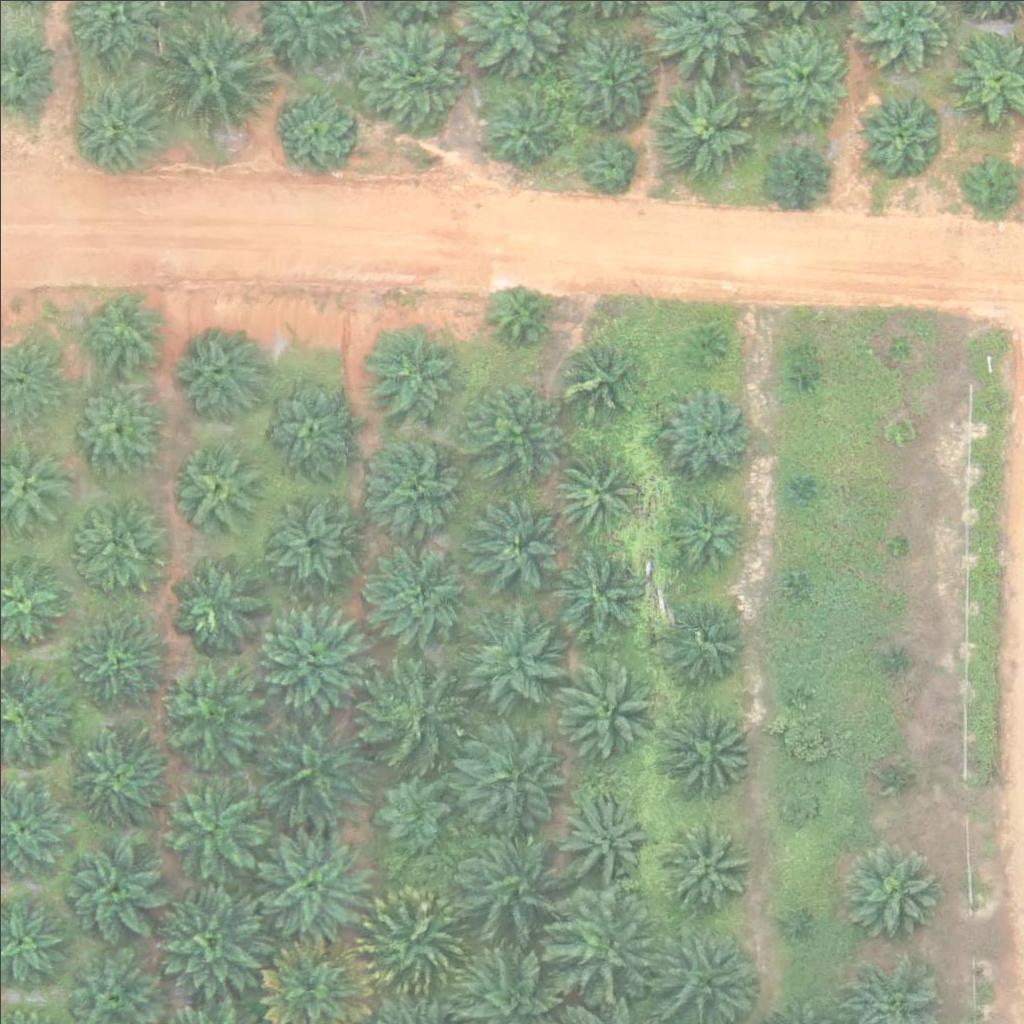Kelapa_Sawit: (346, 12, 471, 138), (147, 11, 272, 137), (256, 592, 369, 706), (154, 765, 267, 878), (356, 883, 469, 996), (256, 831, 369, 944), (259, 713, 372, 826), (456, 825, 568, 939), (452, 722, 564, 836), (547, 889, 659, 1003), (156, 883, 268, 996), (650, 375, 762, 488), (64, 837, 164, 938), (66, 721, 166, 822), (64, 611, 164, 712), (156, 667, 256, 768), (465, 606, 565, 707), (556, 657, 656, 758), (548, 545, 648, 646), (843, 845, 943, 946), (461, 378, 561, 479), (367, 433, 467, 534), (362, 323, 462, 424), (751, 26, 851, 127), (651, 78, 751, 179), (562, 24, 662, 125), (167, 556, 267, 656), (360, 663, 460, 763), (367, 542, 467, 642), (256, 375, 356, 475), (164, 324, 264, 424), (62, 378, 162, 478), (67, 74, 167, 174), (656, 488, 744, 577), (271, 495, 359, 583), (659, 597, 747, 685), (550, 445, 638, 533), (853, 86, 941, 174), (72, 494, 159, 582), (471, 493, 558, 581), (559, 792, 646, 880), (659, 825, 746, 913), (666, 703, 753, 791), (169, 444, 256, 532), (75, 287, 162, 375), (376, 776, 451, 852), (275, 93, 350, 169), (556, 340, 631, 415), (484, 91, 559, 166), (489, 279, 552, 342), (766, 141, 829, 204), (957, 148, 1019, 211), (584, 137, 634, 187), (777, 783, 815, 821), (684, 328, 722, 366), (777, 911, 802, 936), (781, 681, 806, 706), (787, 565, 812, 590), (881, 761, 906, 786), (881, 648, 906, 673), (885, 530, 910, 555), (889, 418, 914, 443), (886, 334, 911, 359), (786, 476, 811, 501), (793, 366, 818, 391)
